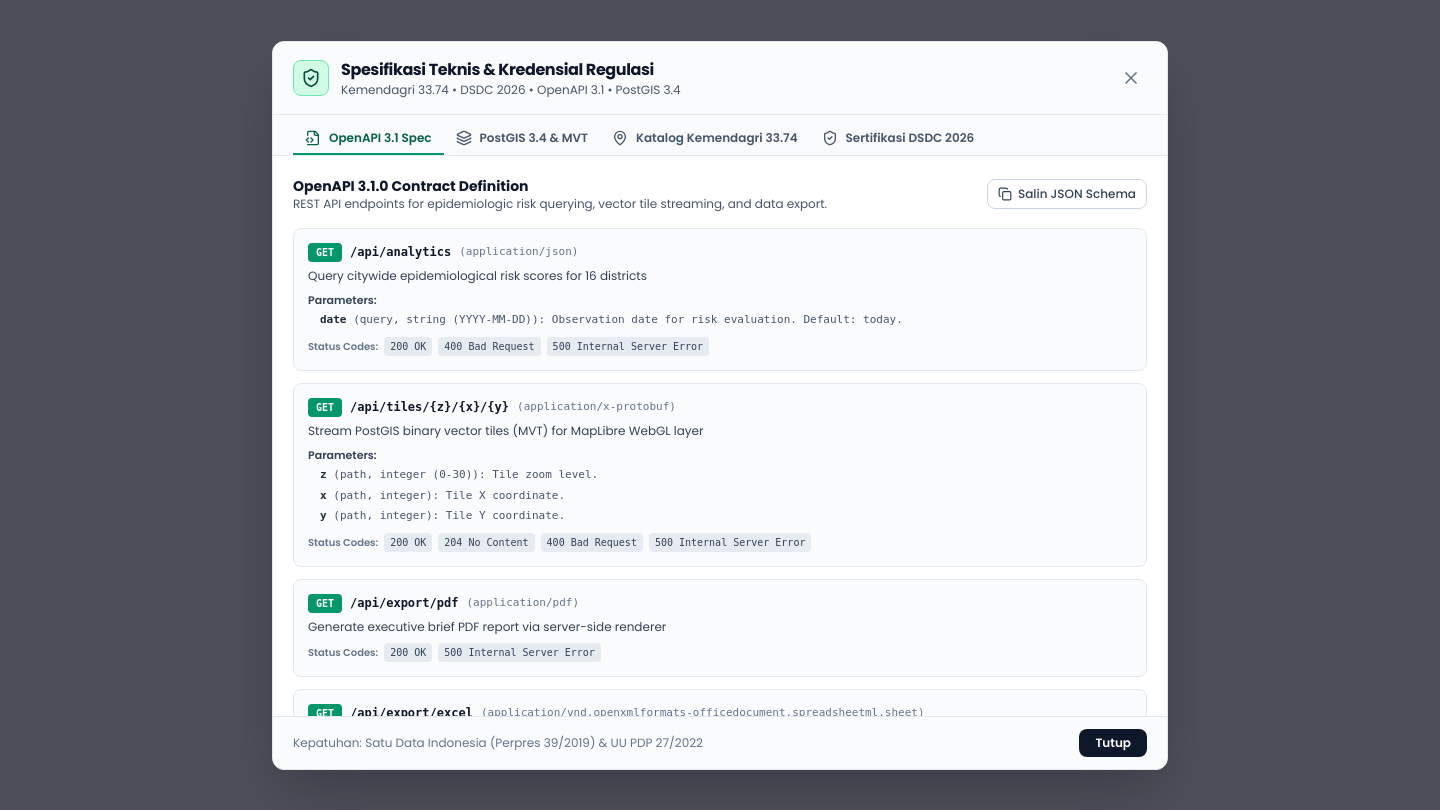
RegulatorySpecsModal Component (src/components/layout/regulatory-specs-modal.tsx) › renders all 4 tabs and allows switching between specifications
Expected: the heading "OpenAPI 3.1.0 Contract Definition" is shown, left=293, top=176, right=528, bottom=196
Note: Switch to PostGIS tab
Click the button "PostGIS 3.4 & MVT" at (522, 139), box left=444, top=122, right=600, bottom=155
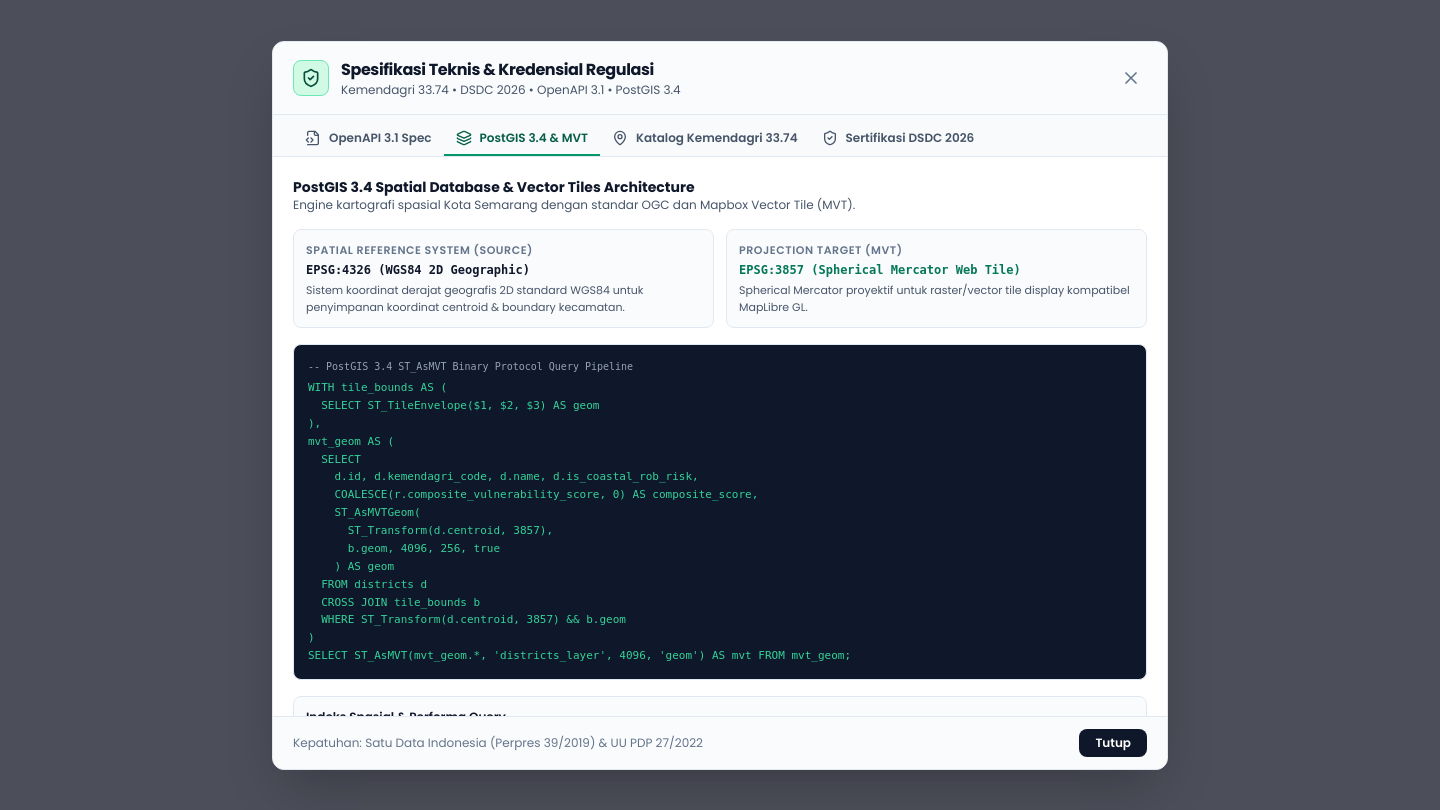
Expected: the heading "PostGIS 3.4 Spatial Database & Vector Tiles Architecture" is shown, left=293, top=176, right=694, bottom=196
Expected: the text "EPSG:4326 (WGS84 2D Geographic)" is shown, left=306, top=263, right=530, bottom=277
Expected: the text "EPSG:3857 (Spherical Mercator Web Tile)" is shown, left=739, top=263, right=1021, bottom=277
Note: Switch to Kemendagri 33.74 Catalog tab
Click the button "Katalog Kemendagri 33.74" at (705, 139), box left=600, top=122, right=810, bottom=156
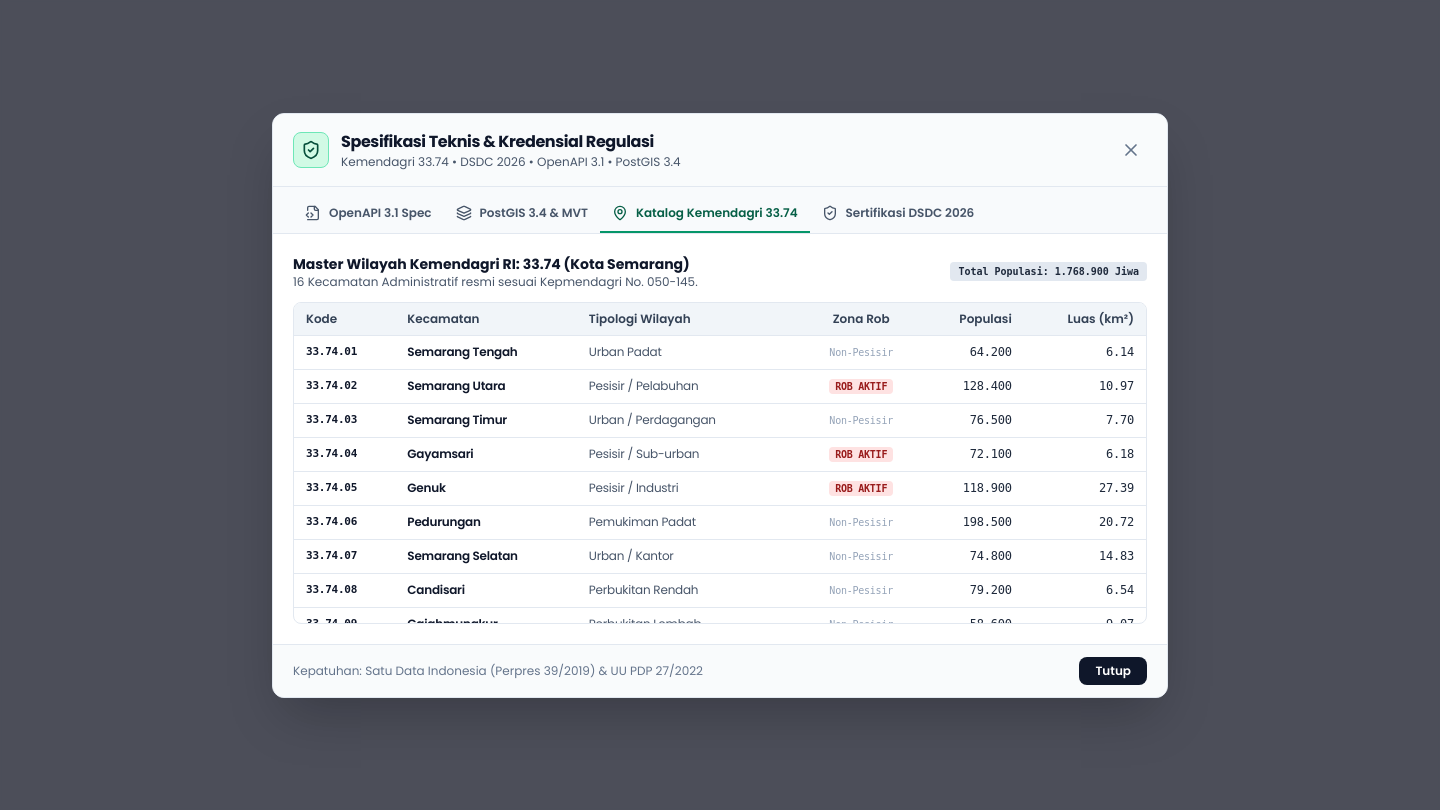
Expected: the heading "Master Wilayah Kemendagri RI: 33.74 (Kota Semarang)" is shown, left=293, top=254, right=698, bottom=274
Expected: the text "Semarang Tengah" is shown, left=395, top=335, right=577, bottom=369
Note: Switch to DSDC 2026 Certification tab
Click the button "Sertifikasi DSDC 2026" at (898, 214), box left=810, top=194, right=986, bottom=232
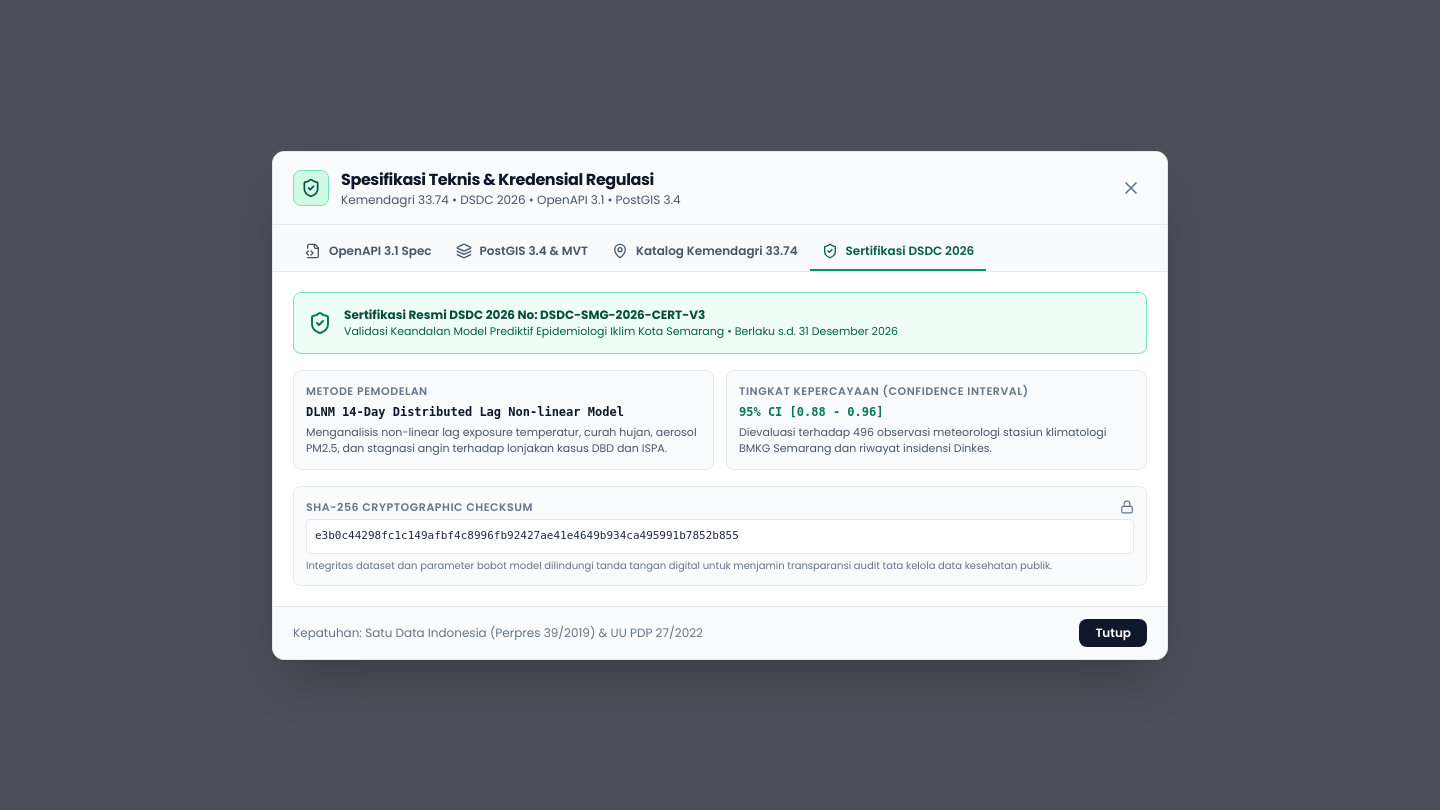
Expected: the text "Sertifikasi Resmi DSDC 2026 No: DSDC-SMG-2026-CERT-V3" is shown, left=344, top=306, right=705, bottom=322
Expected: the text "DLNM 14-Day Distributed Lag Non-linear Model" is shown, left=306, top=404, right=624, bottom=418
